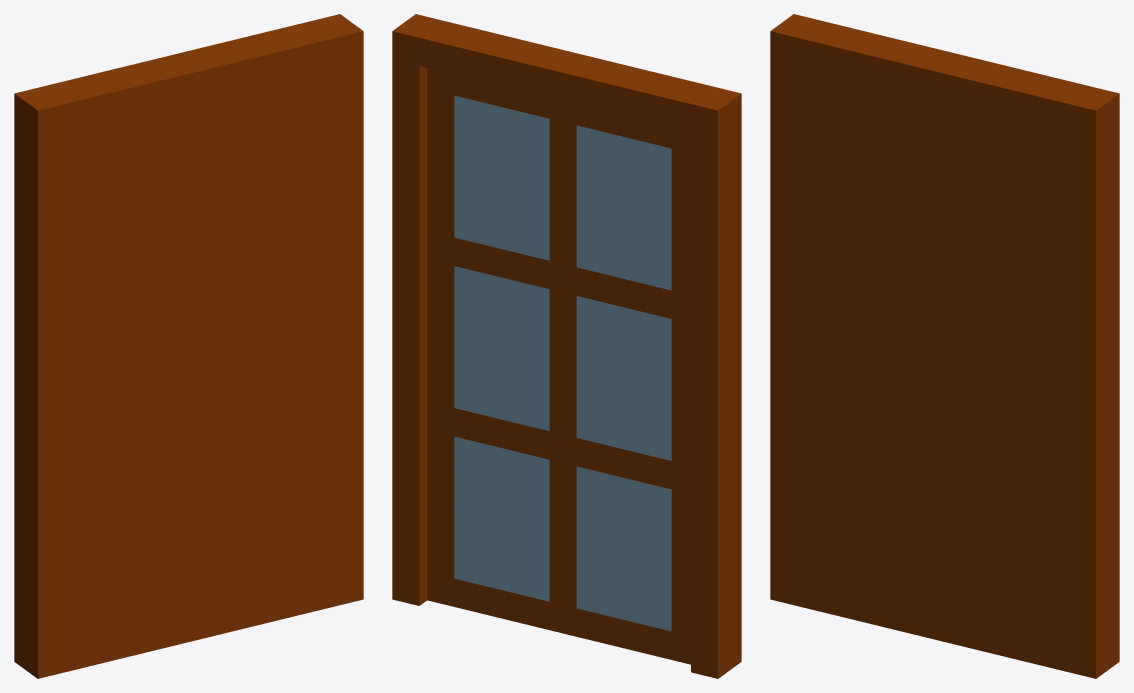
Rendered from TwoThreeWindowDoor.fbx.
The picture shows the model from 3 angles, left to right: view 1: azimuth 30°, elevation 25°; view 2: azimuth 150°, elevation 25°; view 3: azimuth 330°, elevation 25°; orthographic projection.
Visible parts, largest first — view 1: TwoThreeWindowDoor; view 2: TwoThreeWindowDoor; view 3: TwoThreeWindowDoor.
Part boxes in pixels (x1,y1,x2,y2): TwoThreeWindowDoor: [14, 14, 363, 678]; TwoThreeWindowDoor: [392, 14, 741, 678]; TwoThreeWindowDoor: [770, 14, 1119, 678].
Bounding box in the file's own units: 240 × 400 × 30.
